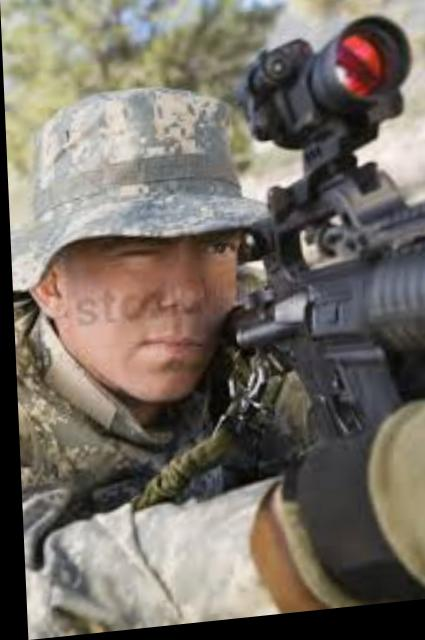other: (14, 128, 322, 616)
